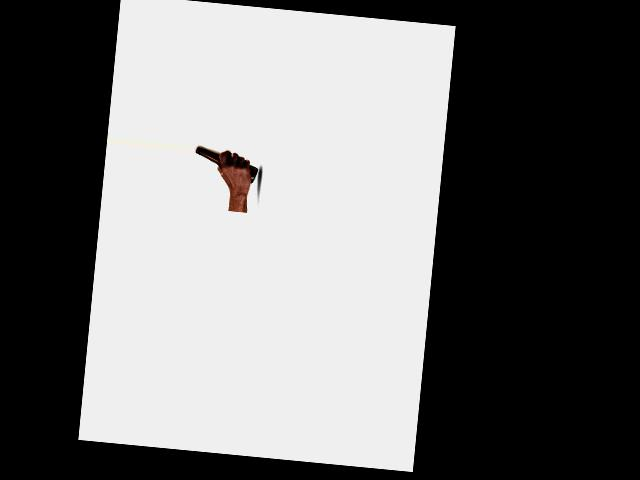beer: (193, 146, 261, 183)
